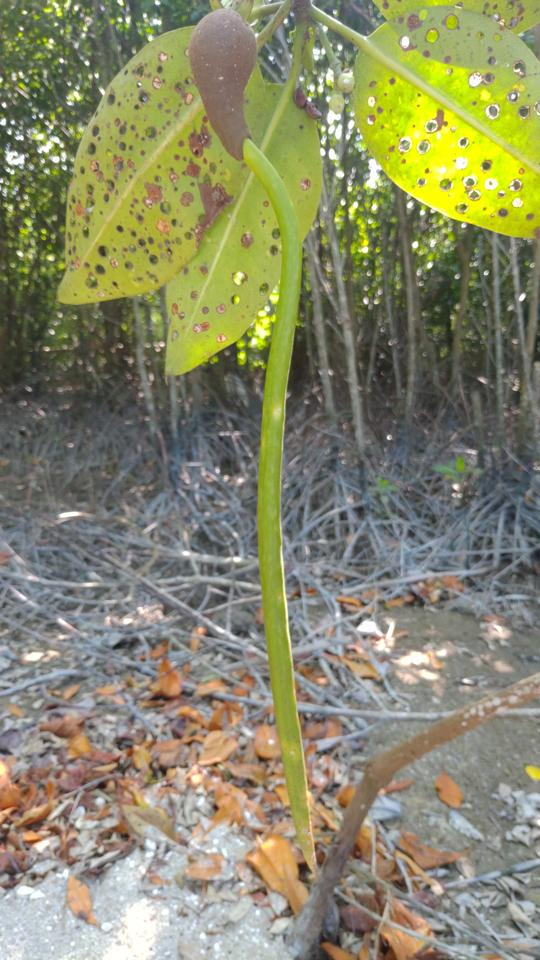mentah: (176, 7, 339, 880)
